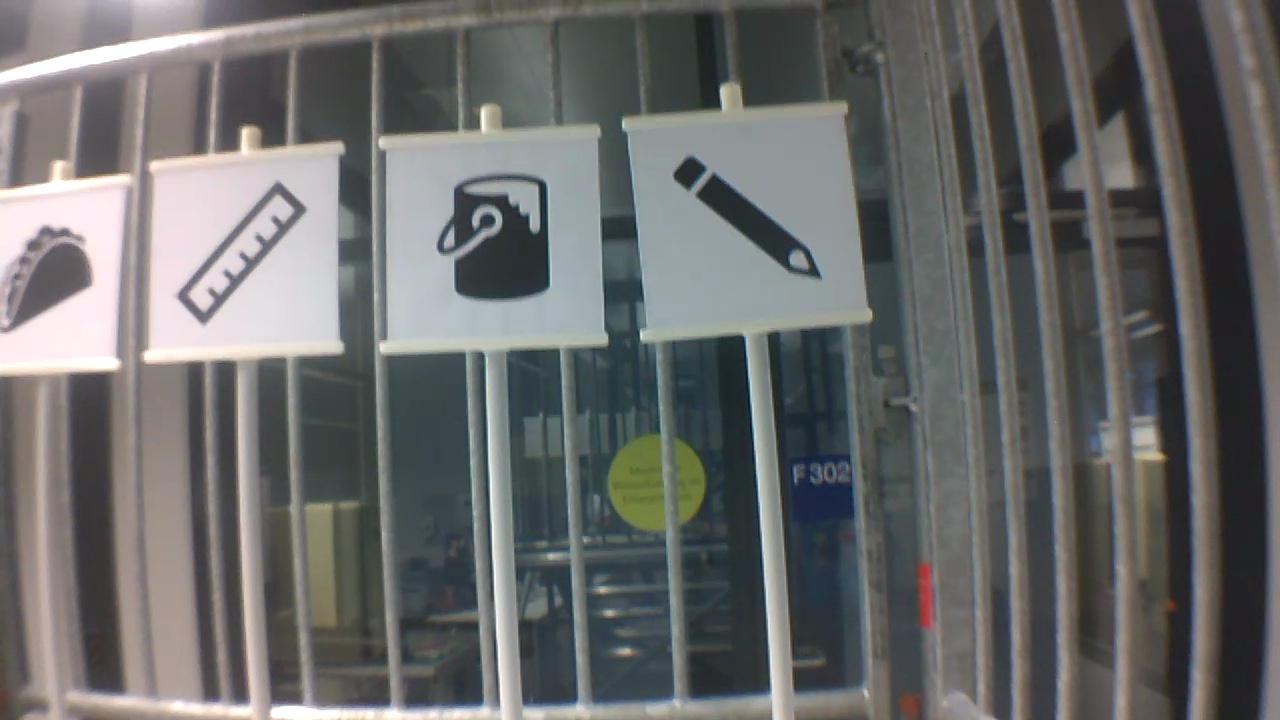bucket: (429, 168, 557, 305)
pencil: (662, 150, 827, 288)
ruler: (170, 175, 316, 331)
taco: (3, 220, 99, 336)
